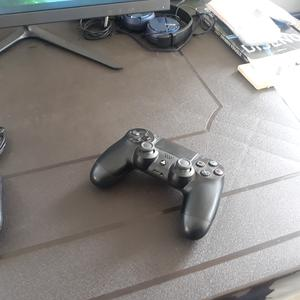controller: (89, 128, 225, 240)
